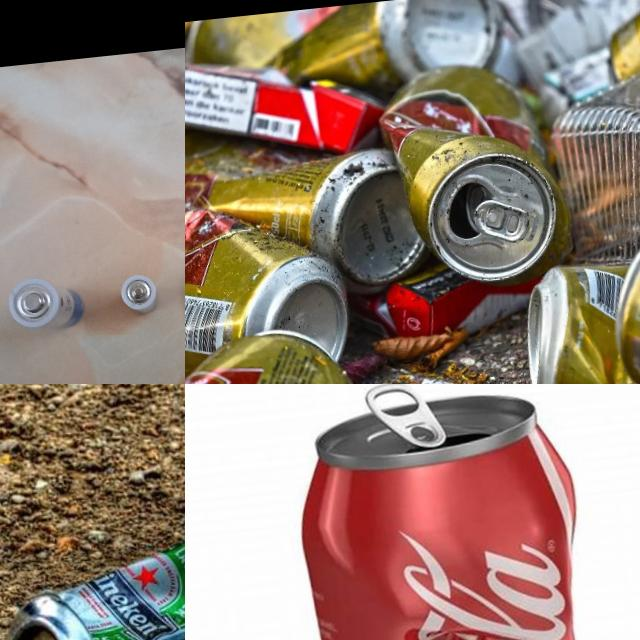aba de lata: (362, 384, 448, 454), (470, 194, 531, 247)
bateria: (6, 273, 86, 333), (120, 272, 160, 316)
lata: (288, 384, 628, 640), (185, 110, 442, 317), (372, 53, 578, 295), (185, 172, 362, 384), (255, 0, 512, 115), (0, 519, 185, 640), (517, 256, 640, 384), (185, 321, 363, 384), (603, 220, 640, 384)
